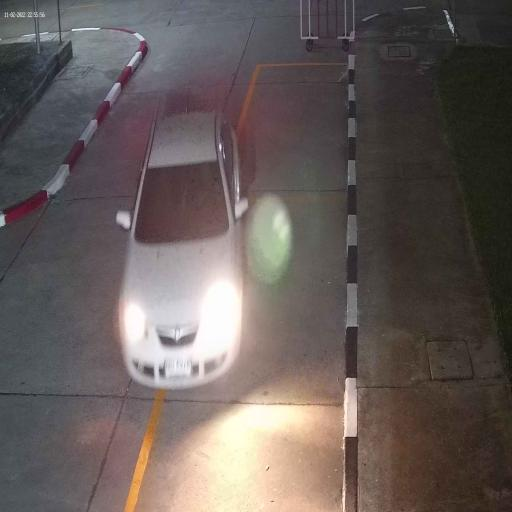car: (114, 105, 248, 395)
